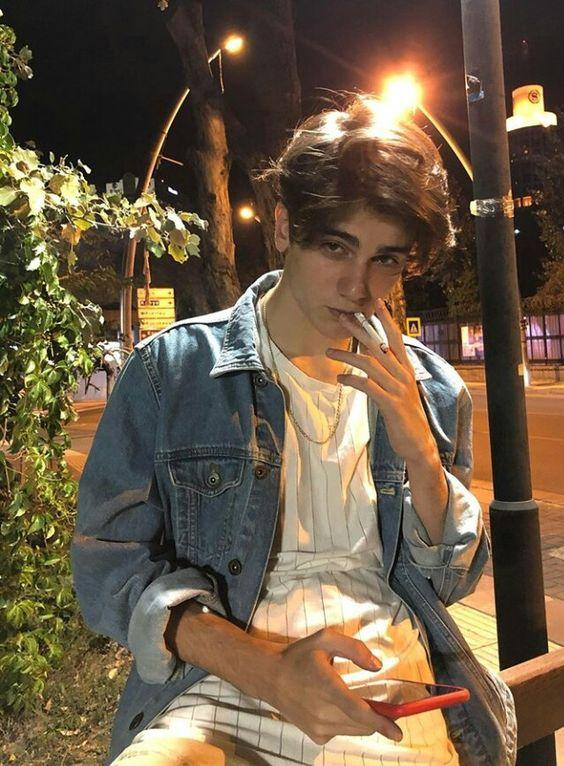cigarette: (354, 312, 388, 354)
